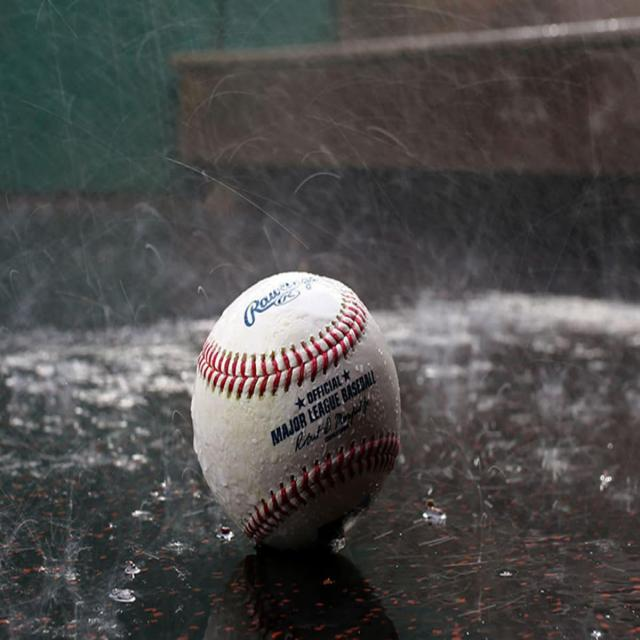baseball: (190, 268, 404, 552)
